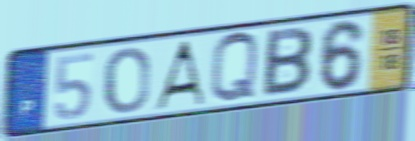5: (51, 50, 96, 122)
6: (318, 17, 365, 93)
A: (151, 37, 208, 111)
B: (260, 25, 315, 100)
O: (102, 45, 152, 116)
Q: (208, 30, 261, 107)
